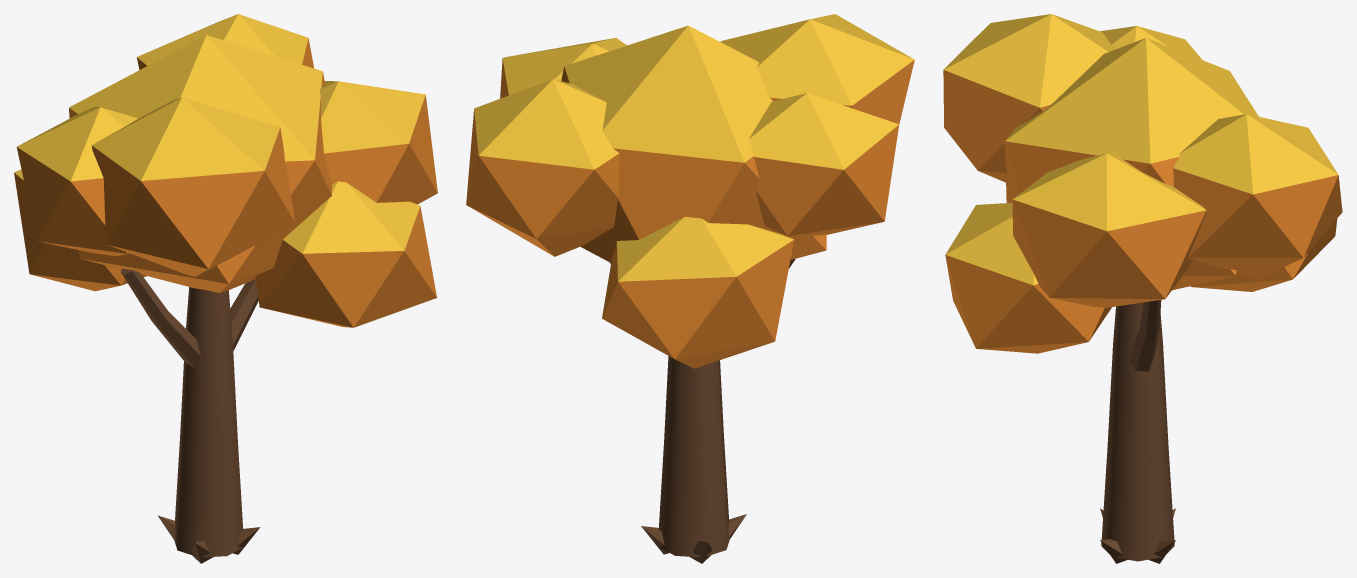
The model's file is AutumnTree.fbx.
3 views of the same model, side by side, from view 1: azimuth 30°, elevation 25°; view 2: azimuth 150°, elevation 25°; view 3: azimuth 270°, elevation 25° (orthographic). The views are drawn at different scales.
Parts seen in each view (by area): view 1: AutumnTree; view 2: AutumnTree; view 3: AutumnTree.
Part boxes in pixels (<box>): AutumnTree: <box>14,14,437,563</box>; AutumnTree: <box>466,14,914,563</box>; AutumnTree: <box>943,14,1342,563</box>.
Size of the model in its own units: 11.07 by 14.29 by 9.99.
Materials: 1 (1 with a texture image).
